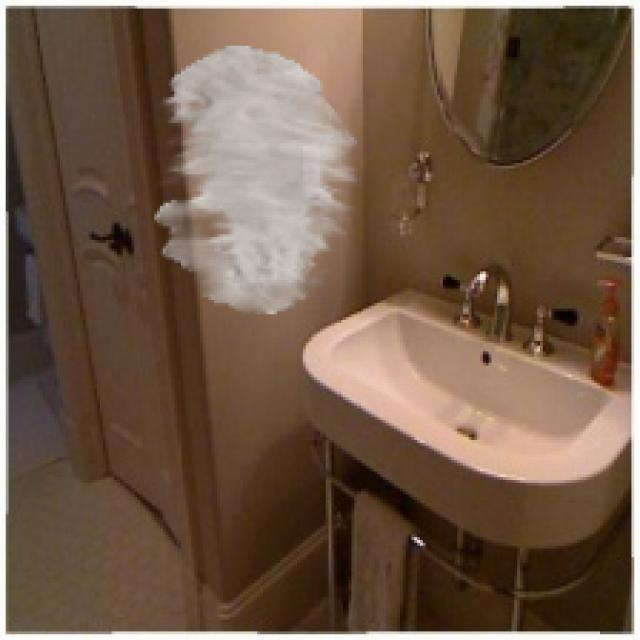smoke: (154, 46, 360, 314)
